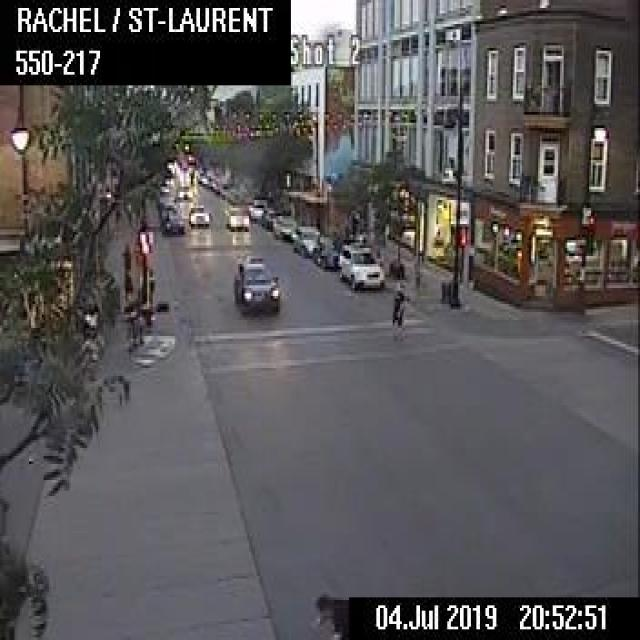pedestrian: (389, 282, 404, 337), (388, 255, 403, 288), (122, 239, 130, 278), (123, 270, 132, 296)
vehicle: (229, 253, 280, 312), (337, 239, 383, 288), (311, 228, 342, 267), (291, 224, 321, 256), (272, 214, 296, 240), (161, 209, 184, 232), (225, 206, 248, 228), (260, 206, 281, 227), (246, 198, 266, 220), (188, 204, 208, 225), (175, 183, 192, 200)
